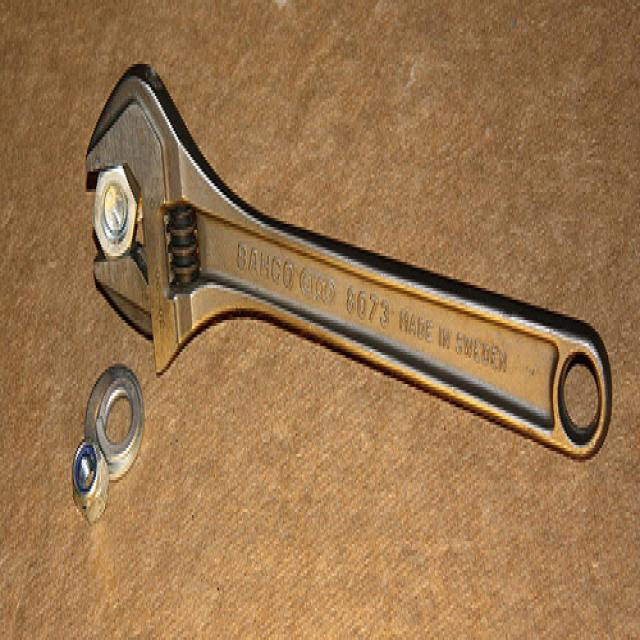wrench: (70, 34, 640, 478)
